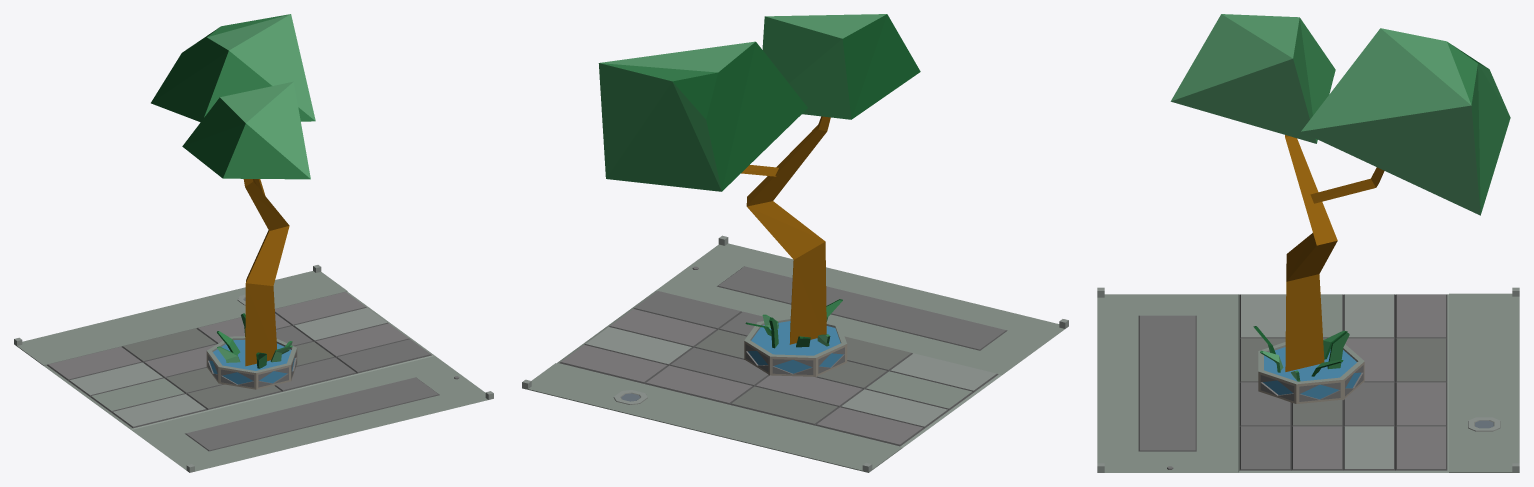
File: Crossroads_C.gltf
The picture shows the model from 3 angles, left to right: view 1: azimuth 30°, elevation 25°; view 2: azimuth 150°, elevation 25°; view 3: azimuth 270°, elevation 25°; orthographic projection. The views are drawn at different scales.
Visible parts, largest first — view 1: Scifi_Panel_02 Plaza014_group4.003; view 2: Scifi_Panel_02 Plaza014_group4.003; view 3: Scifi_Panel_02 Plaza014_group4.003.
Part boxes in pixels (left/top/right/bottom): Scifi_Panel_02 Plaza014_group4.003: left=14, top=14, right=493, bottom=472; Scifi_Panel_02 Plaza014_group4.003: left=522, top=14, right=1068, bottom=472; Scifi_Panel_02 Plaza014_group4.003: left=1097, top=14, right=1519, bottom=472.
Size of what is drawn, in the model's own units: 10 by 9.36 by 10.
1 material, 1 textured.
